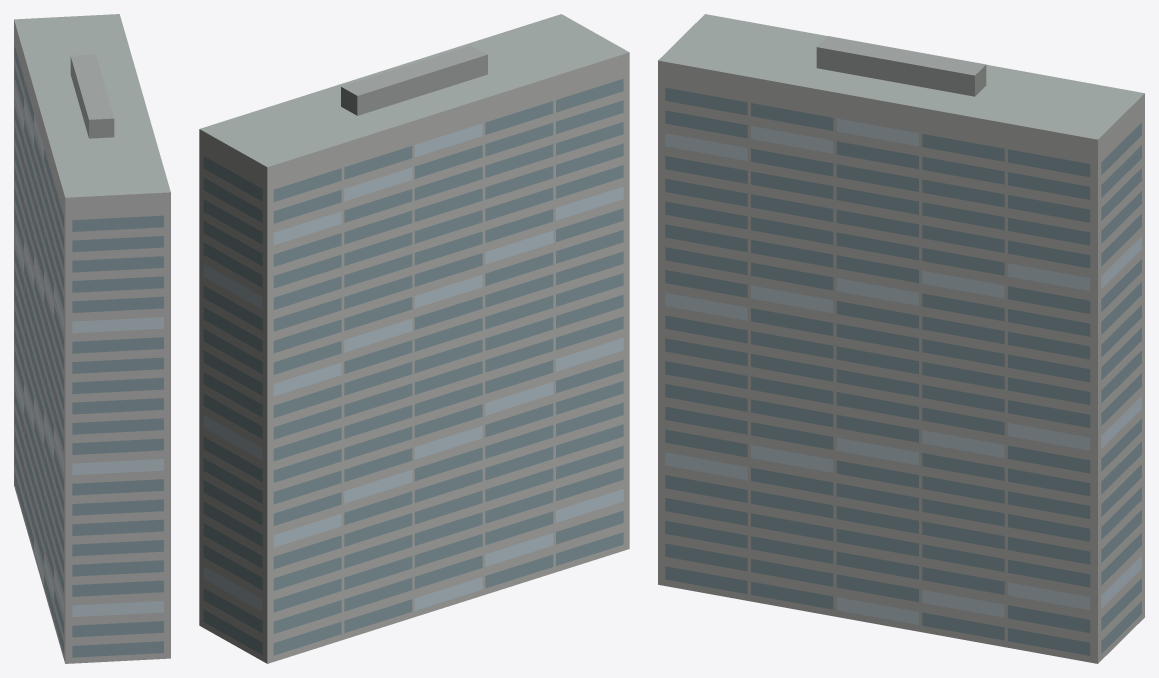
Rendered from fallback-sk-bukhansan-city-136.glb.
3 views of the same model, side by side, from view 1: azimuth 30°, elevation 25°; view 2: azimuth 150°, elevation 25°; view 3: azimuth 270°, elevation 25° (orthographic). The views are drawn at different scales.
Parts seen in each view (by area): view 1: fallback-sk-bukhansan-city-136; view 2: fallback-sk-bukhansan-city-136; view 3: fallback-sk-bukhansan-city-136.
Boxes of the visible parts, x1,y1,x2,y2 form: fallback-sk-bukhansan-city-136: [14, 14, 170, 663]; fallback-sk-bukhansan-city-136: [199, 14, 629, 663]; fallback-sk-bukhansan-city-136: [658, 14, 1144, 663].
Size of the model in its own units: 30.66 by 62 by 50.16.
